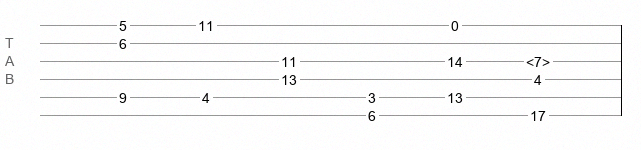0: (451, 18, 459, 28)
11: (198, 18, 214, 28), (281, 54, 297, 64)
13: (281, 72, 297, 82), (447, 90, 463, 100)
14: (447, 54, 463, 64)
17: (530, 108, 546, 118)
3: (368, 90, 376, 100)
4: (202, 90, 210, 100), (534, 72, 542, 82)
5: (119, 18, 127, 28)
6: (119, 36, 127, 46), (368, 108, 376, 118)
9: (119, 90, 127, 100)
harmonic: (526, 54, 550, 64)
